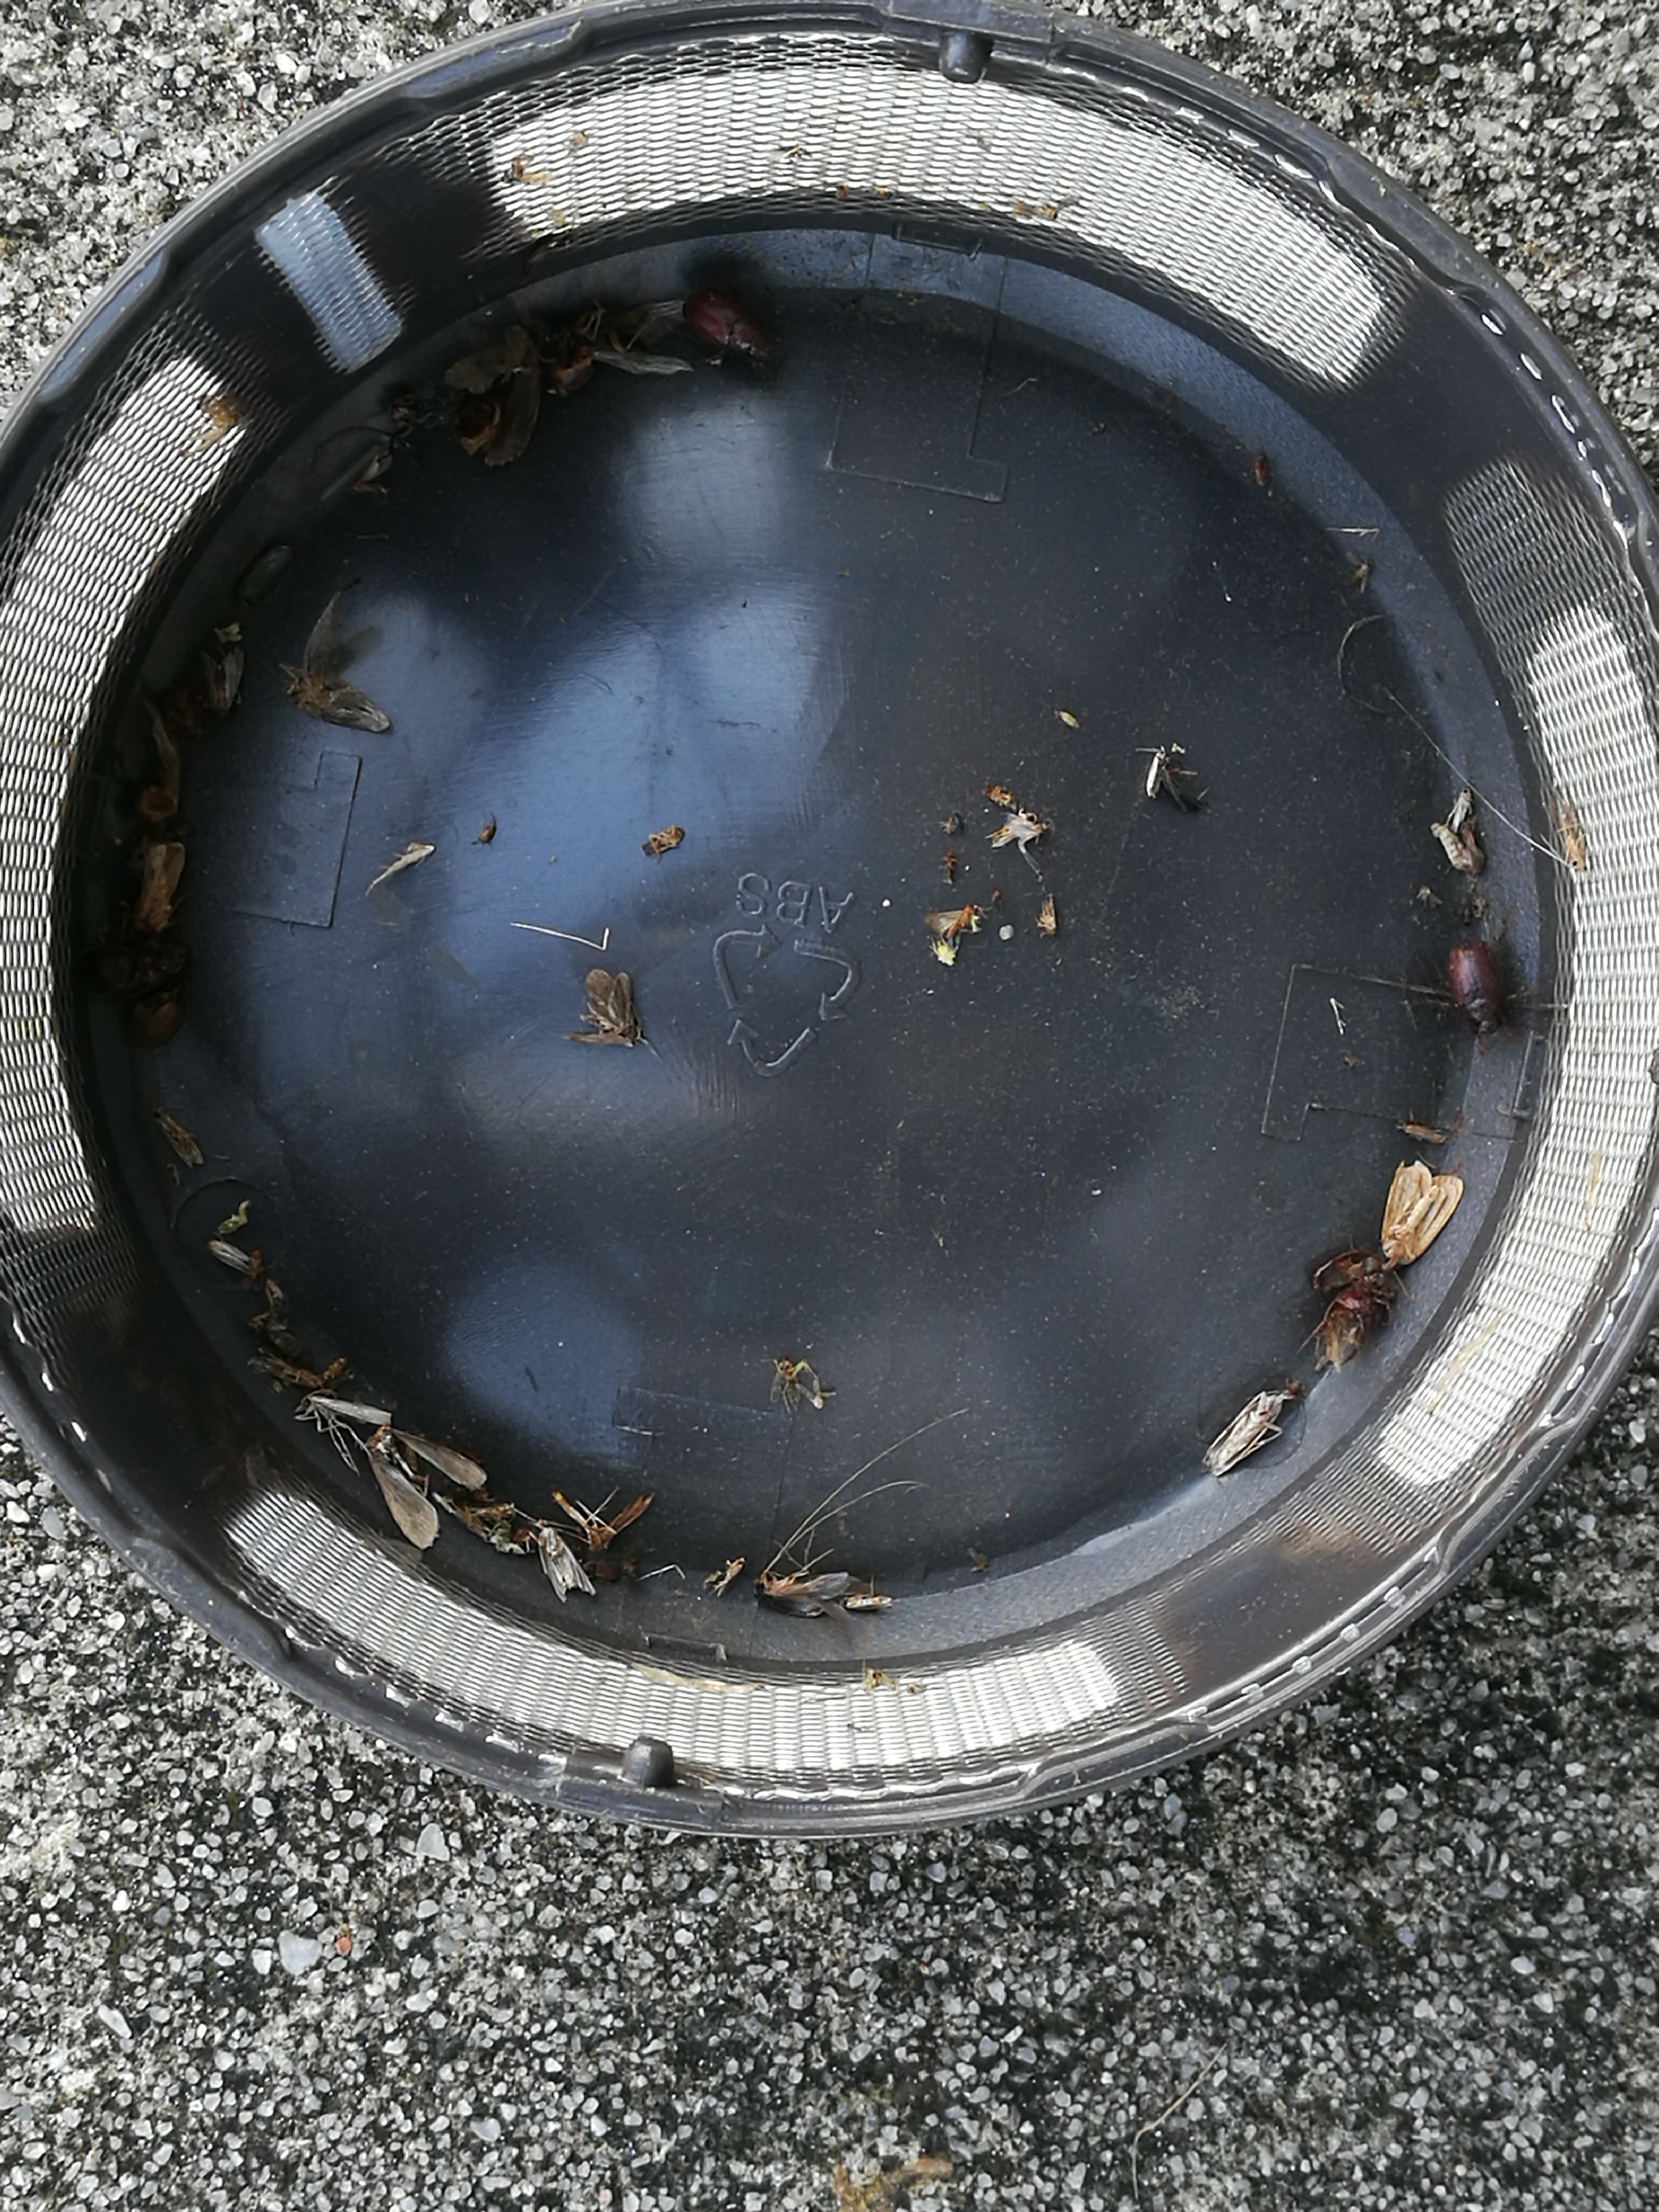beetle: (685, 284, 786, 378), (78, 935, 186, 993), (1448, 939, 1506, 1031)
mosquito: (1202, 1390, 1286, 1479), (755, 1573, 849, 1616), (296, 1393, 392, 1426), (153, 1109, 202, 1169), (251, 1357, 321, 1386), (985, 810, 1037, 846), (643, 827, 685, 855), (1450, 786, 1471, 829), (1147, 747, 1164, 798), (843, 1595, 892, 1611)
moth: (279, 590, 389, 732), (369, 1426, 486, 1548), (444, 326, 540, 467), (544, 298, 683, 373), (1382, 1162, 1464, 1268), (561, 970, 638, 1047), (535, 1522, 596, 1602), (134, 838, 185, 930), (200, 646, 244, 714)
